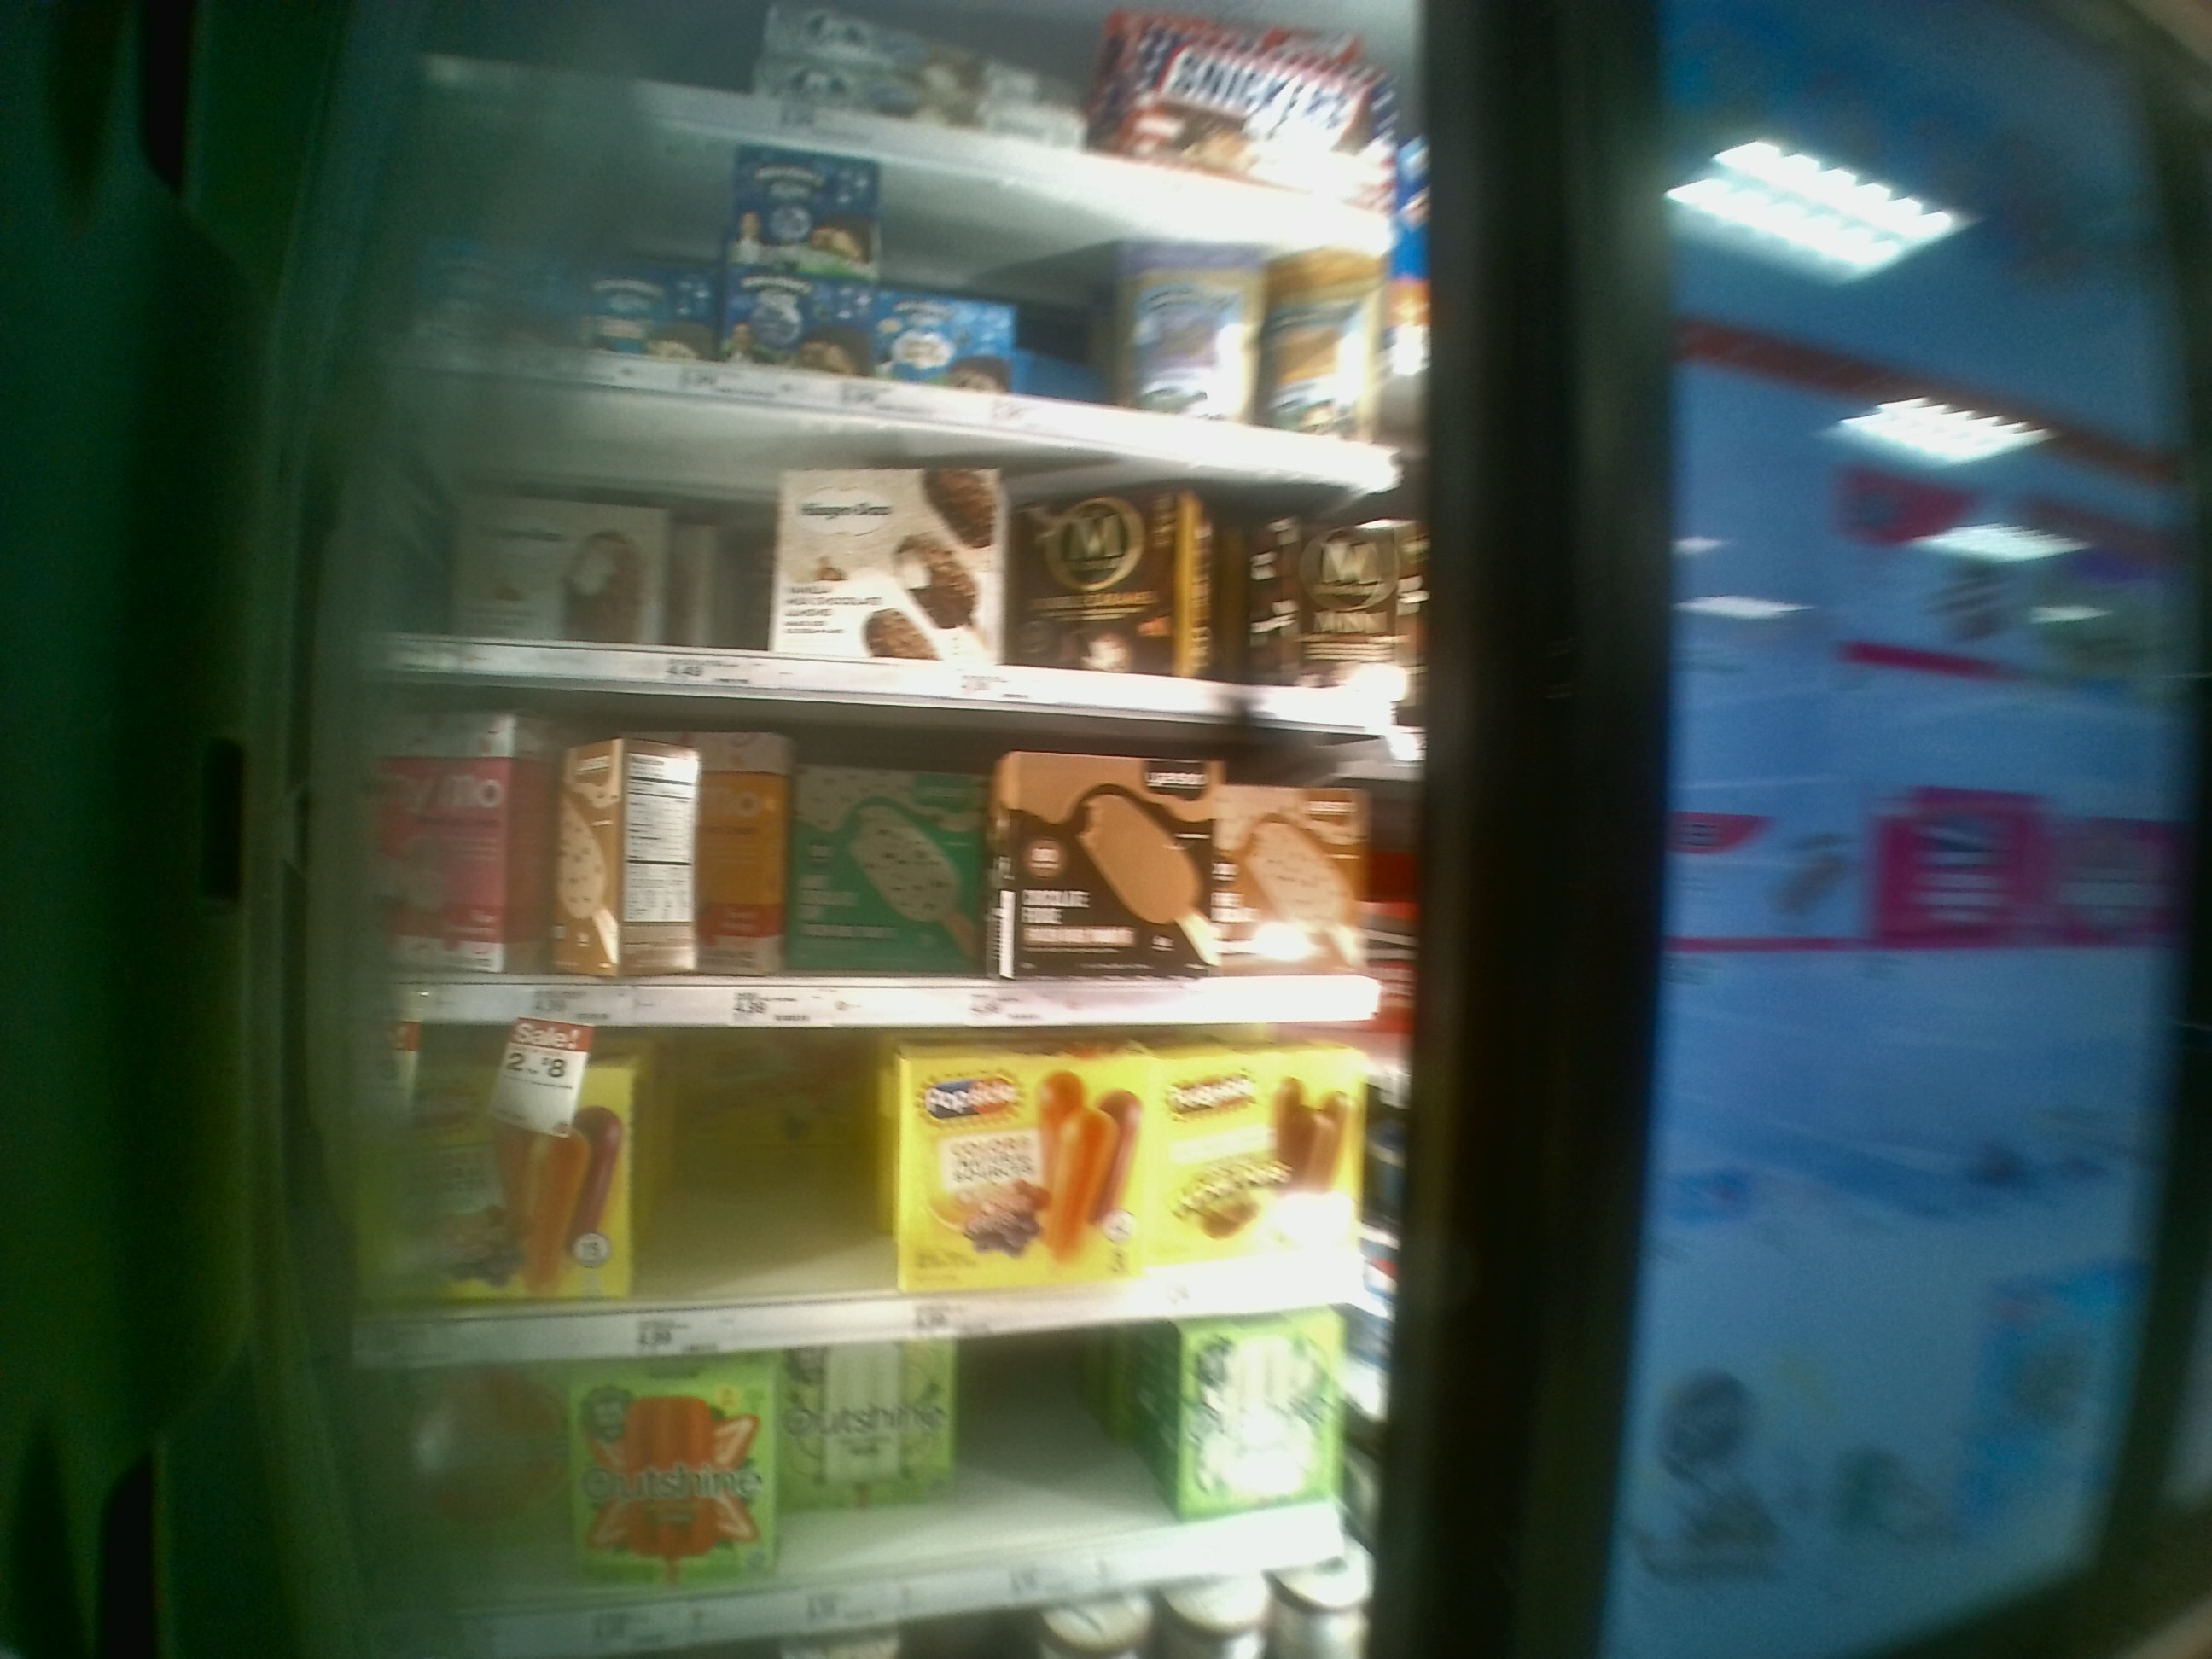shelf: (343, 734, 1439, 1033)
